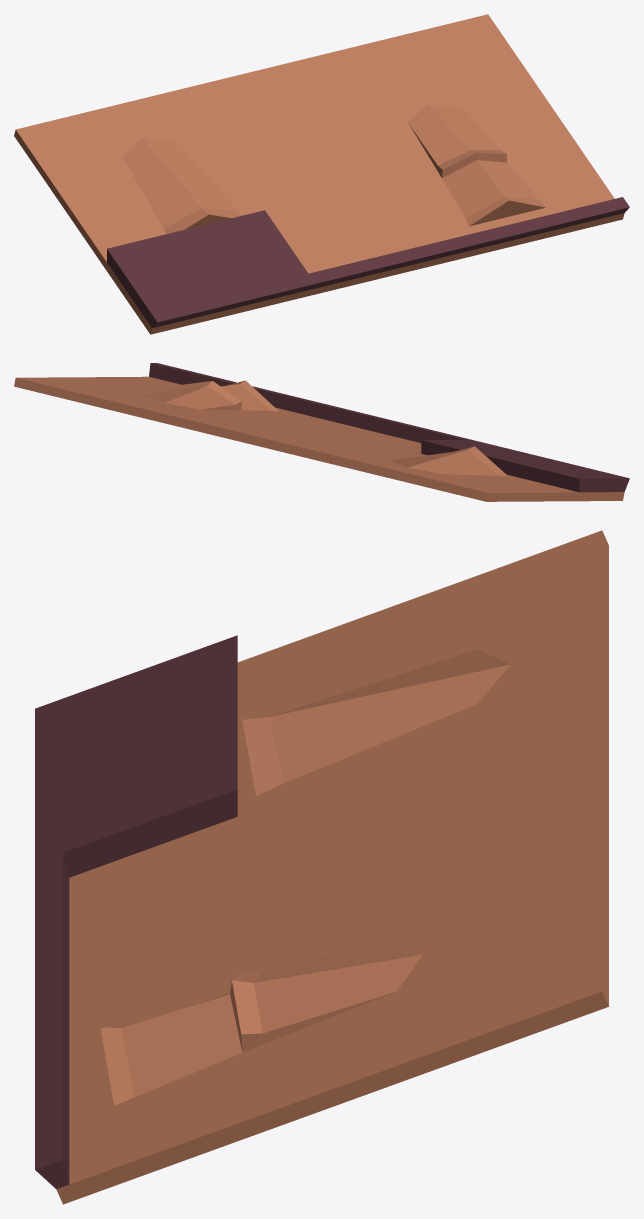
The model's file is empire-roof-acroterion-platform-l-small-3m-empire.glb.
3 renders of one model, top to bottom at view 1: azimuth 30°, elevation 25°; view 2: azimuth 150°, elevation 25°; view 3: azimuth 270°, elevation 25°, orthographic. The views are drawn at different scales.
Visible parts, largest first — view 1: SM_Roof_Acroterion_Platform_L_Small_3m_Empire; view 2: SM_Roof_Acroterion_Platform_L_Small_3m_Empire; view 3: SM_Roof_Acroterion_Platform_L_Small_3m_Empire.
Part boxes in pixels (x1,y1,x2,y2): SM_Roof_Acroterion_Platform_L_Small_3m_Empire: [14, 14, 629, 334]; SM_Roof_Acroterion_Platform_L_Small_3m_Empire: [14, 363, 629, 501]; SM_Roof_Acroterion_Platform_L_Small_3m_Empire: [35, 530, 608, 1204].
Size of the model in its own units: 3 by 0.6467 by 1.58.
